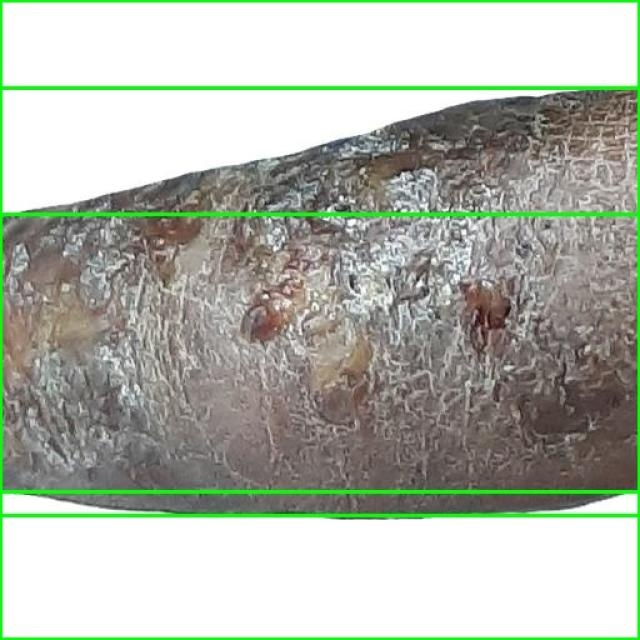Eczema: (0, 88, 639, 515), (0, 0, 639, 214), (0, 491, 639, 639)
